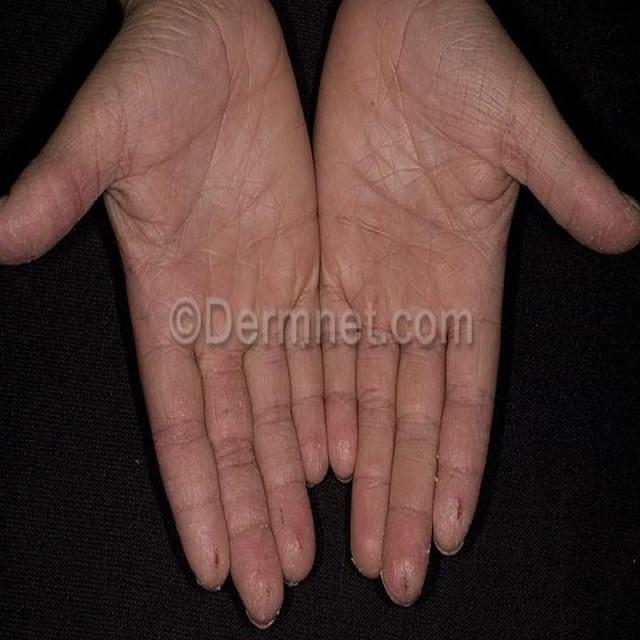liquenificacion 1: (45, 7, 571, 443)
